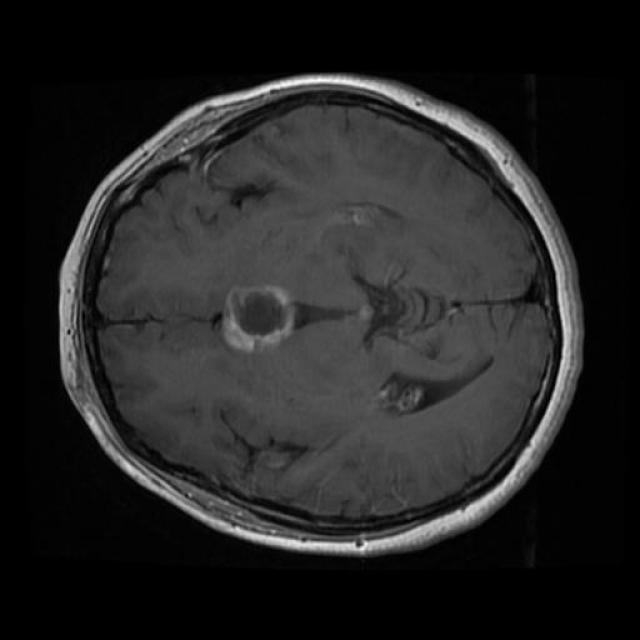Pituitary: (222, 286, 296, 353)
